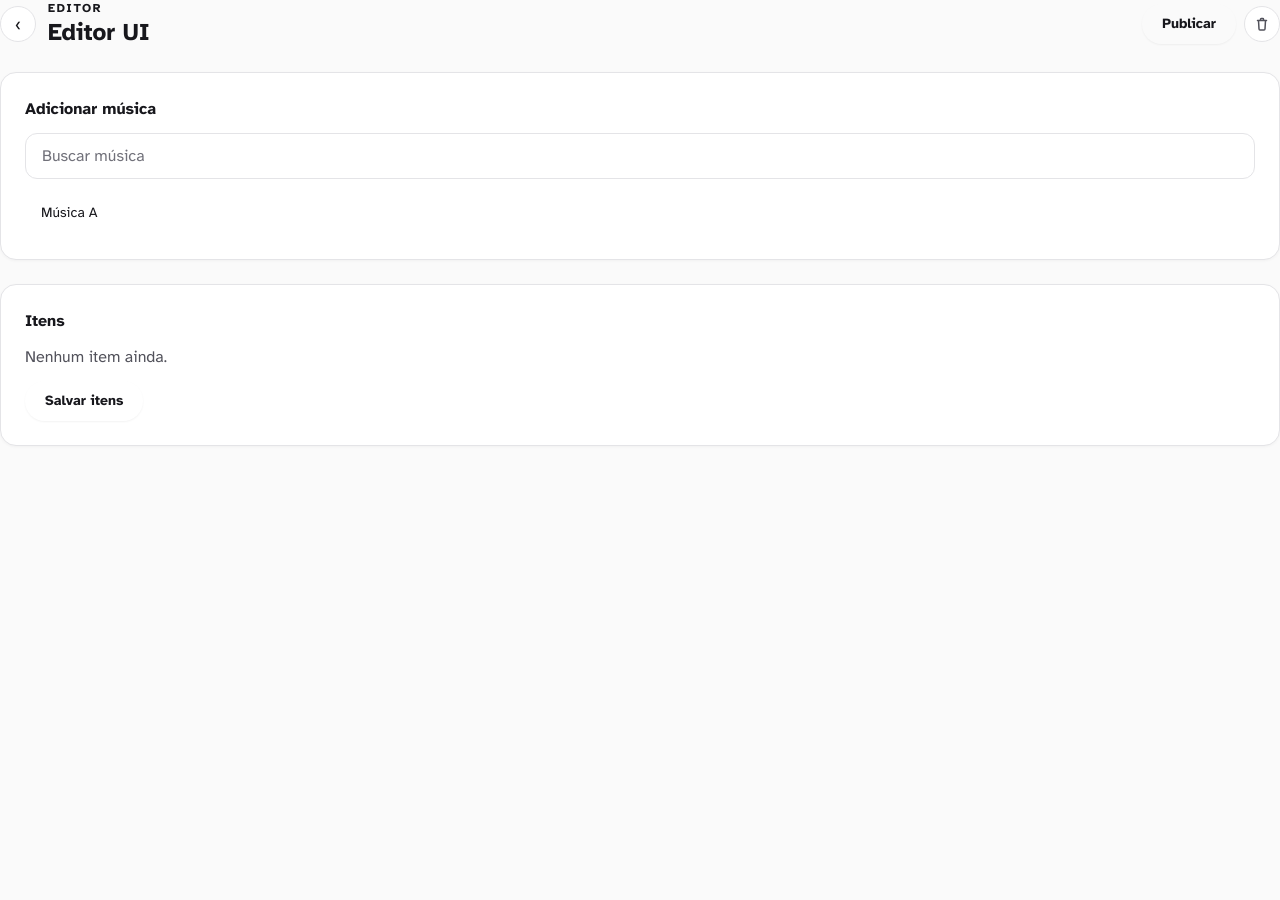
SetlistEditor › attaches notes to a selected song from the dialog
Step 1. Click the button "Música A" → {"x": 69, "y": 212}, box [29, 191, 620, 235]
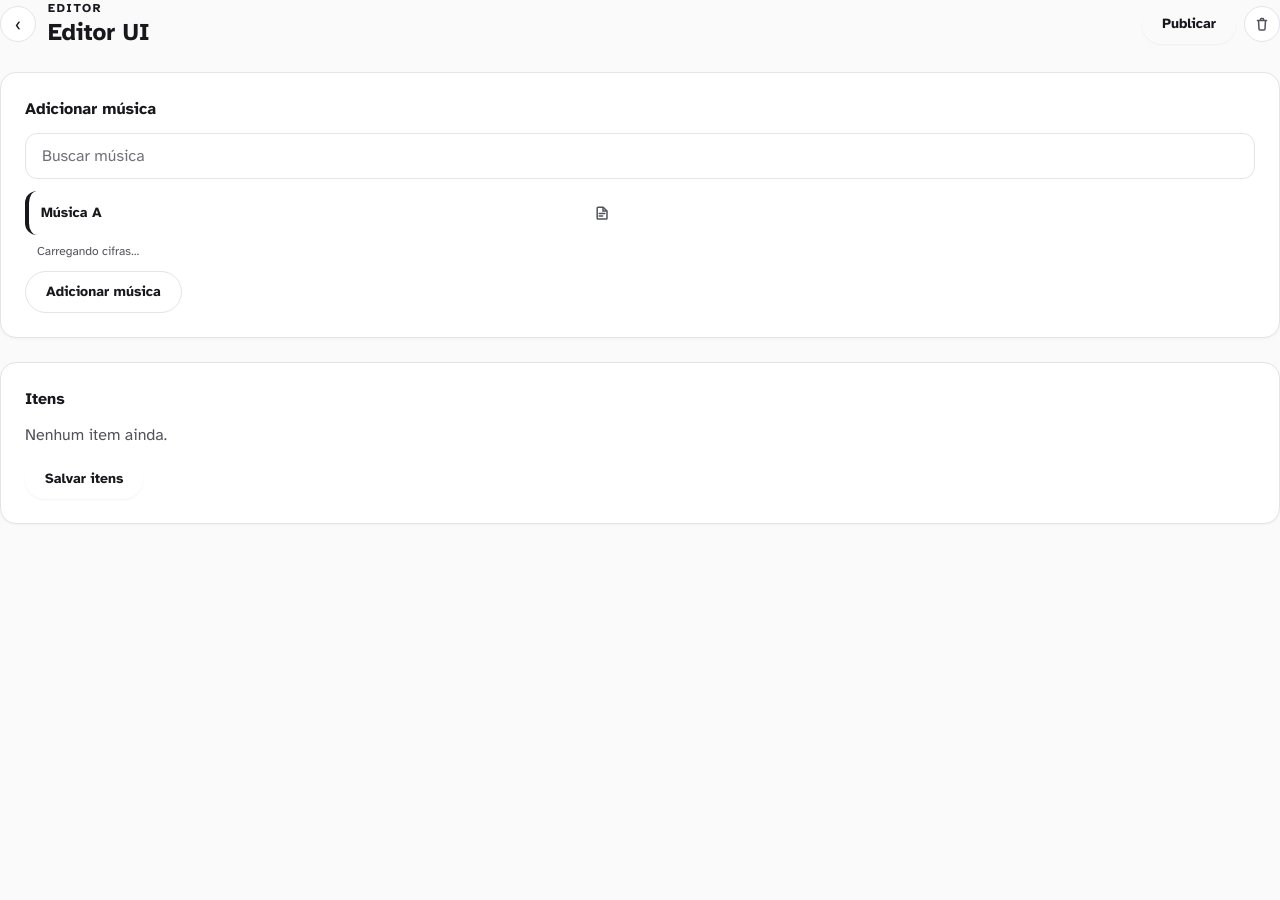
Check: the button named "Anotação de Música A" is shown
Step 2. Click the button named "Anotação de Música A" → {"x": 602, "y": 213}, box [584, 195, 620, 231]
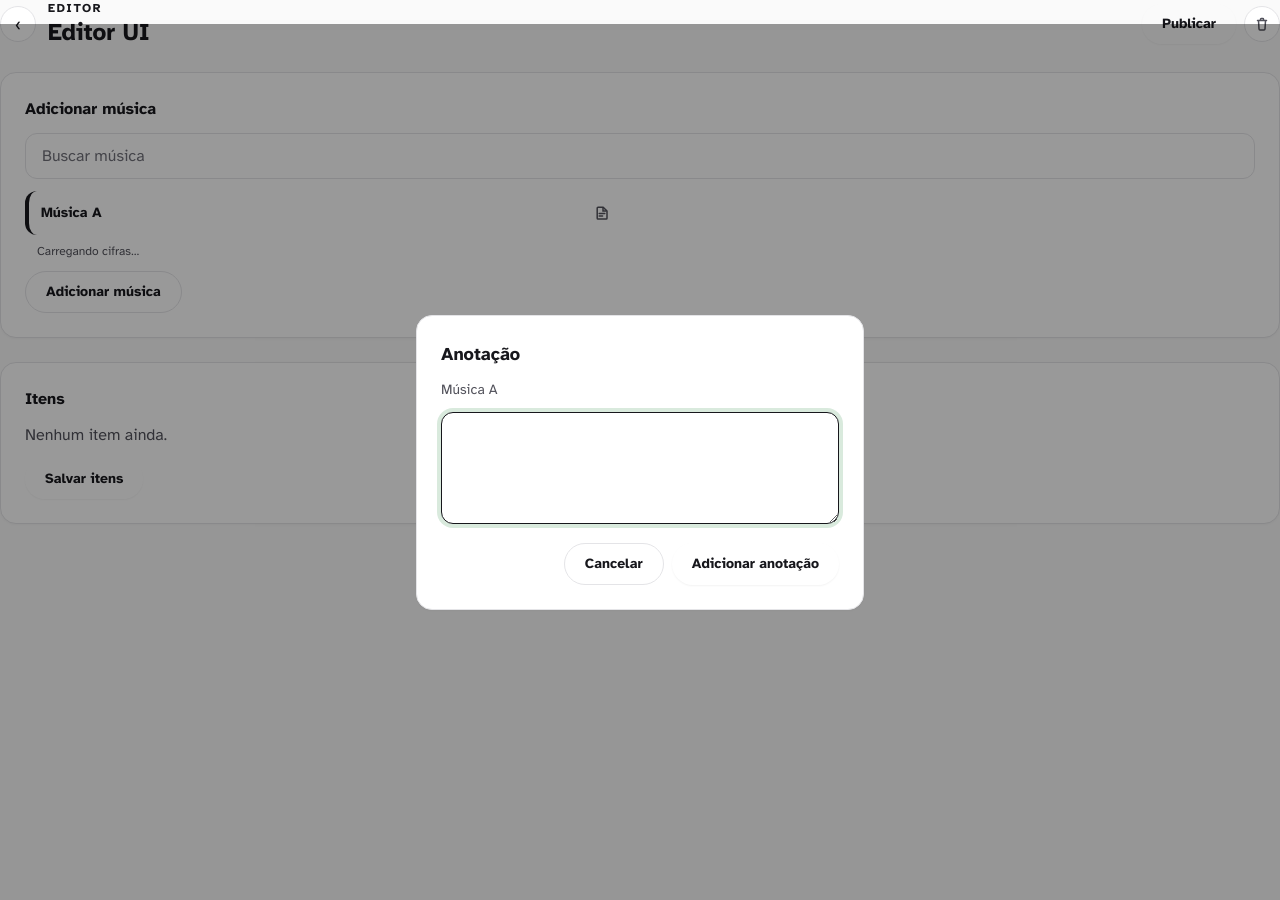
Step 3. Type "Pausa" into the text box named "Texto da anotação" → {"x": 640, "y": 468}, box [441, 412, 839, 524]
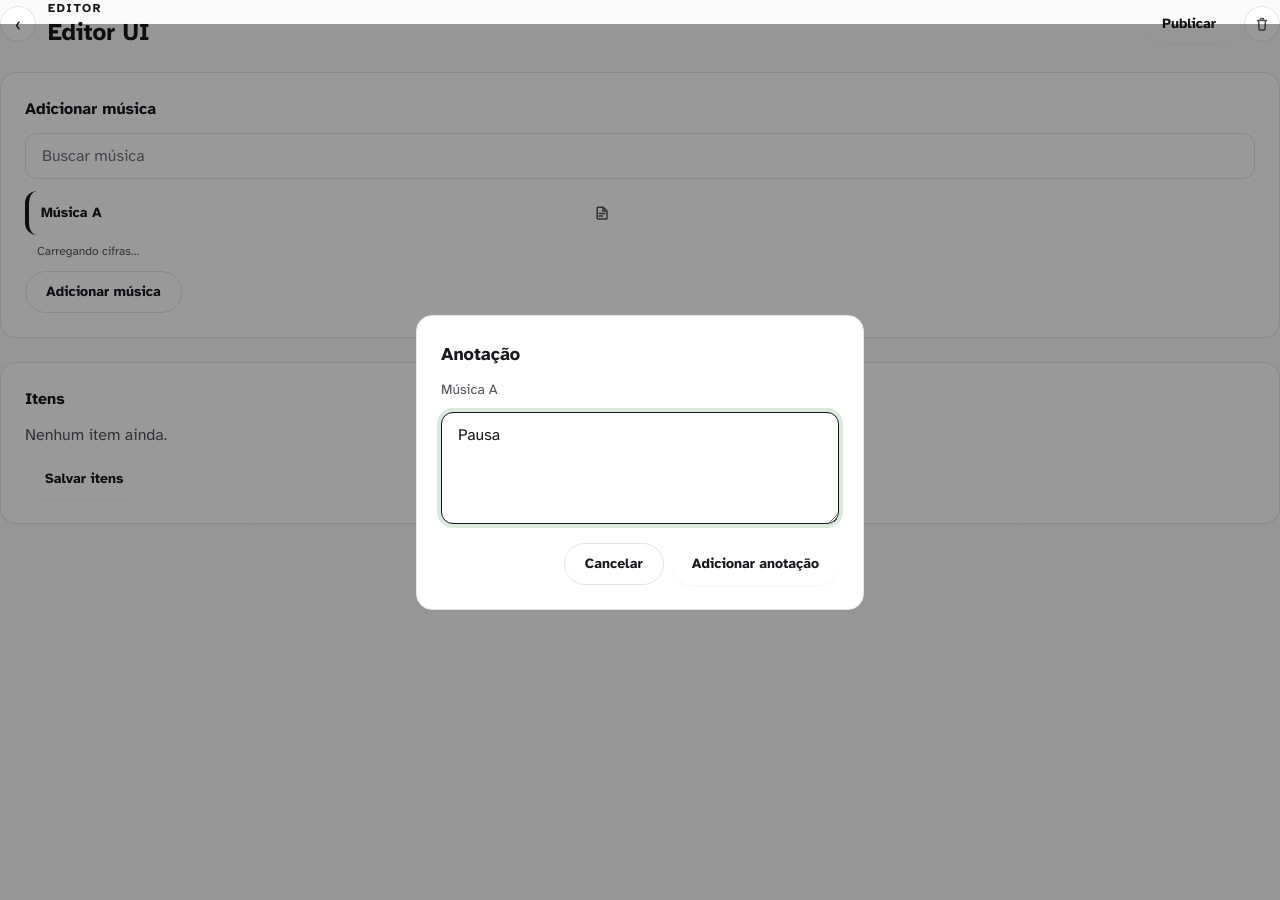
Step 4. Click the button "Adicionar anotação" → {"x": 755, "y": 564}, box [672, 542, 839, 584]
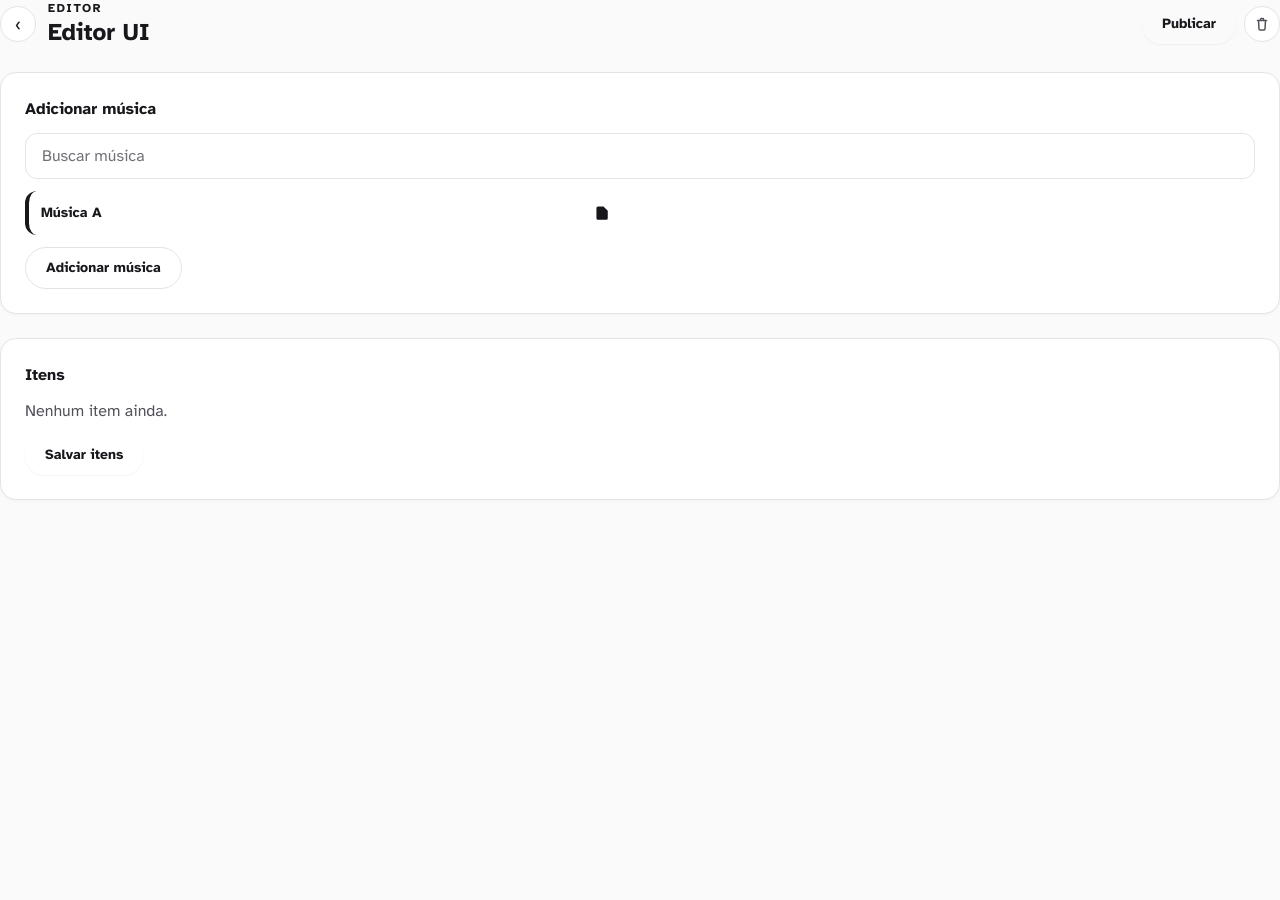
Check: the text "Carregando cifras…" is gone
Step 5. Click the button "Adicionar música" → {"x": 103, "y": 268}, box [25, 247, 182, 289]
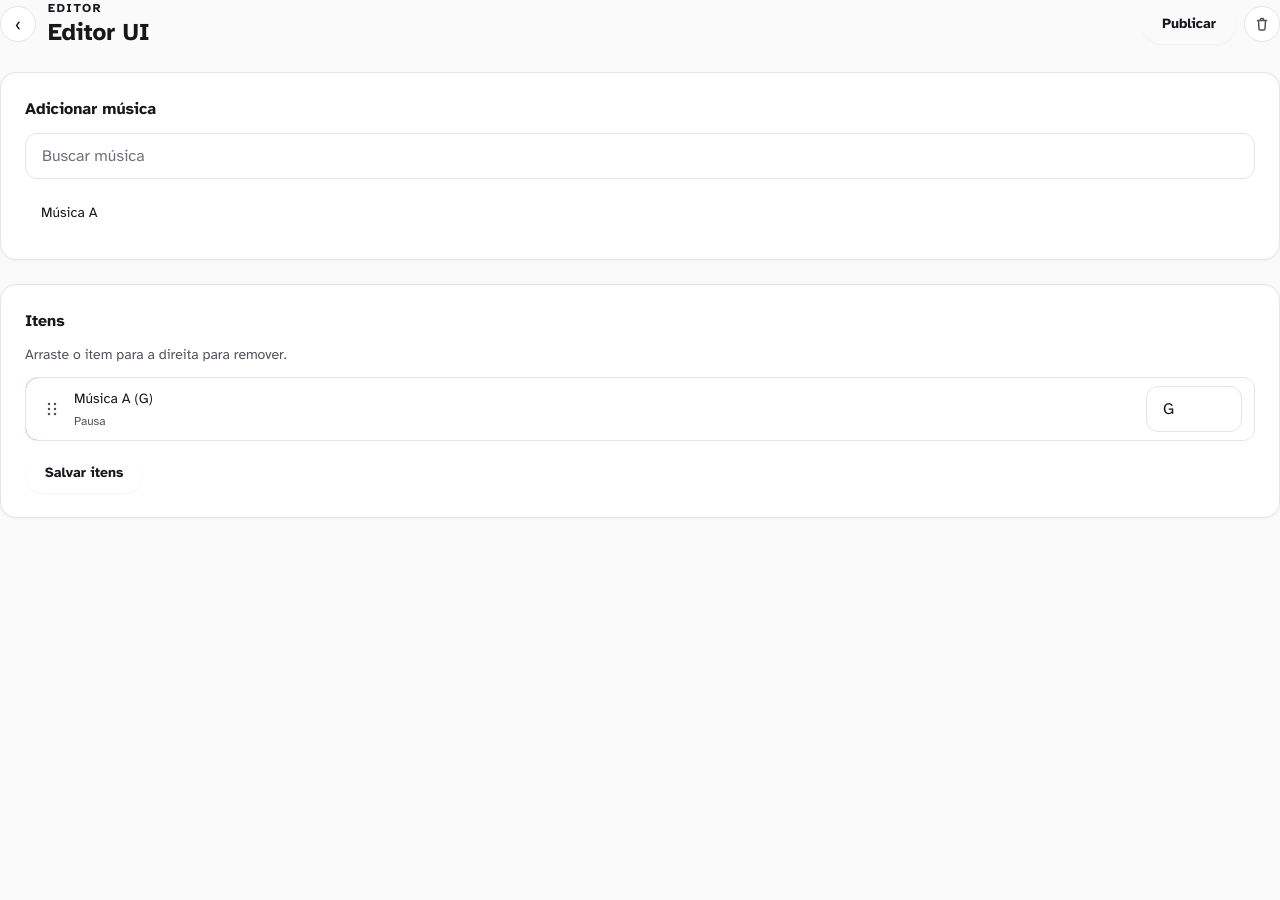
Check: the text "Pausa" is shown, box [74, 414, 106, 428]
